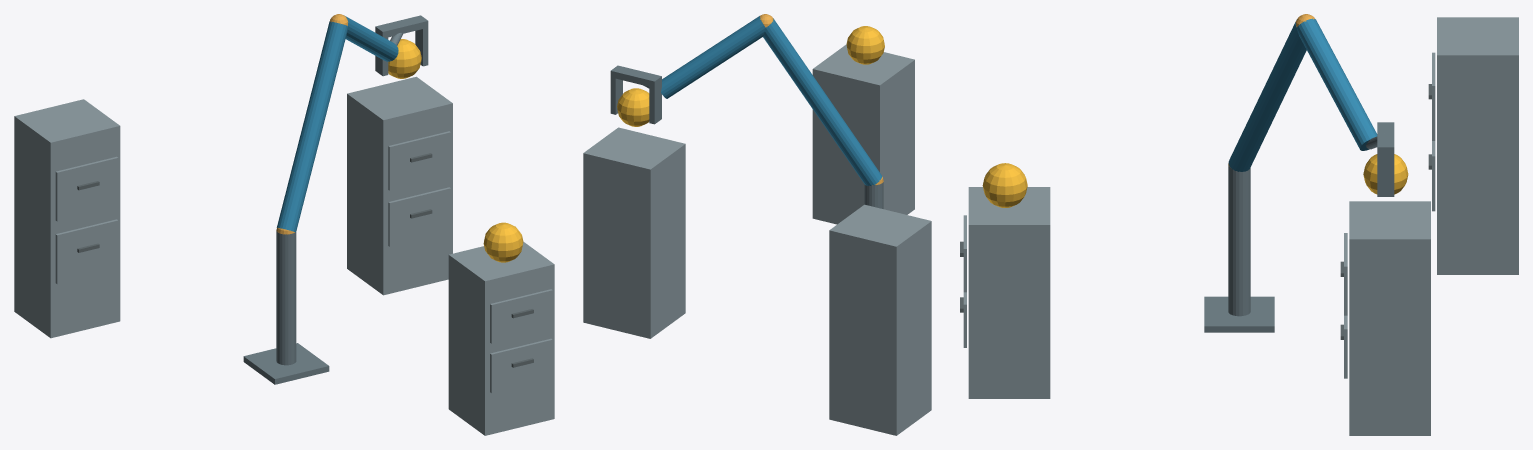
3 renders of one model, left to right at view 1: azimuth 30°, elevation 25°; view 2: azimuth 150°, elevation 25°; view 3: azimuth 270°, elevation 25°, orthographic. The views are drawn at different scales.
Visible parts, largest first — view 1: cabinet_3 body, cabinet_2 body, cabinet_1 body, moving link 1, cabinet_3 drawer front.001, cabinet_3 drawer front, cabinet_2 drawer front, cabinet_2 drawer front.001, fixed post, cabinet_1 drawer front, cabinet_1 drawer front.001, pedestal (+4 smaller); view 2: cabinet_3 body, cabinet_2 body, cabinet_1 body, moving link 1, moving link 2, released ball_1, ball ball_2, gripper bridge, gripper finger -1, fixed post, gripper finger 1; view 3: cabinet_3 body, cabinet_2 body, cabinet_1 body, moving link 1, fixed post, moving link 2, pedestal, released ball_1, ball ball_2, gripper finger 1, gripper bridge.
Part boxes in pixels (x1=…): cabinet_3 body: x1=14, y1=99, x2=120, y2=338; cabinet_2 body: x1=347, y1=76, x2=452, y2=295; cabinet_1 body: x1=448, y1=241, x2=554, y2=435; moving link 1: x1=276, y1=21, x2=347, y2=231; cabinet_3 drawer front.001: x1=55, y1=156, x2=118, y2=221; cabinet_3 drawer front: x1=55, y1=219, x2=118, y2=284; cabinet_2 drawer front: x1=388, y1=187, x2=450, y2=246; cabinet_2 drawer front.001: x1=388, y1=131, x2=450, y2=190; fixed post: x1=276, y1=231, x2=296, y2=365; cabinet_1 drawer front: x1=490, y1=338, x2=552, y2=393; cabinet_1 drawer front.001: x1=490, y1=289, x2=552, y2=343; pedestal: x1=243, y1=343, x2=329, y2=384; cabinet_3 body: x1=829, y1=204, x2=931, y2=435; cabinet_2 body: x1=583, y1=127, x2=685, y2=338; cabinet_1 body: x1=812, y1=44, x2=914, y2=224; moving link 1: x1=763, y1=18, x2=882, y2=185; moving link 2: x1=661, y1=16, x2=765, y2=98; released ball_1: x1=846, y1=26, x2=884, y2=64; ball ball_2: x1=617, y1=88, x2=649, y2=126; gripper bridge: x1=610, y1=65, x2=661, y2=87; gripper finger -1: x1=649, y1=83, x2=661, y2=124; fixed post: x1=864, y1=182, x2=883, y2=208; gripper finger 1: x1=610, y1=77, x2=622, y2=114; cabinet_3 body: x1=1437, y1=17, x2=1518, y2=274; cabinet_2 body: x1=1349, y1=201, x2=1430, y2=435; cabinet_1 body: x1=968, y1=187, x2=1050, y2=398; moving link 1: x1=1228, y1=20, x2=1306, y2=171; fixed post: x1=1228, y1=165, x2=1250, y2=316; moving link 2: x1=1297, y1=18, x2=1377, y2=150; pedestal: x1=1204, y1=296, x2=1274, y2=332; released ball_1: x1=982, y1=163, x2=1027, y2=207; ball ball_2: x1=1363, y1=154, x2=1408, y2=194; gripper finger 1: x1=1377, y1=155, x2=1394, y2=196; gripper bridge: x1=1377, y1=122, x2=1394, y2=154.
Bounding box in the file's own units: 1.67 × 1.36 × 1.98.
